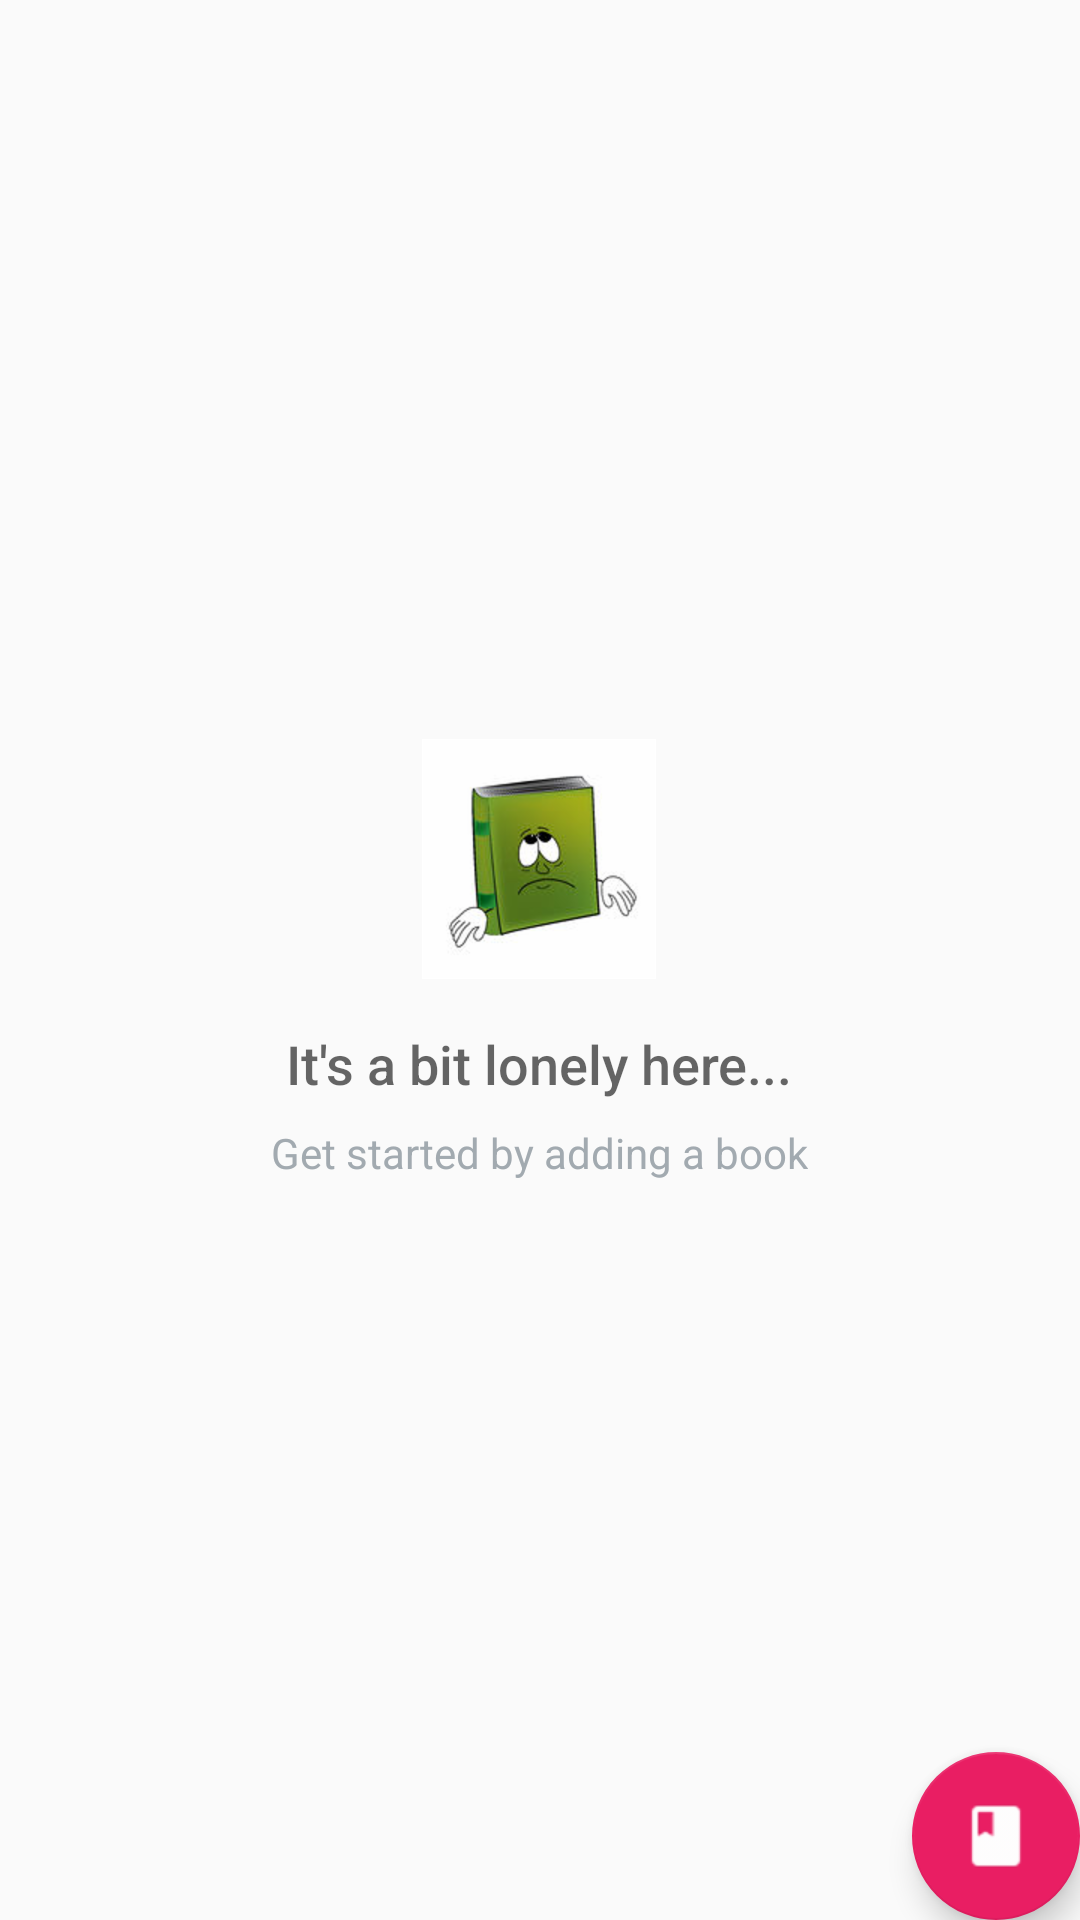

Screen size 1080w x 1920h. Icon name, then its center in pixels as [x,y]:
book: [996,1836]
sad book: [542,861]
